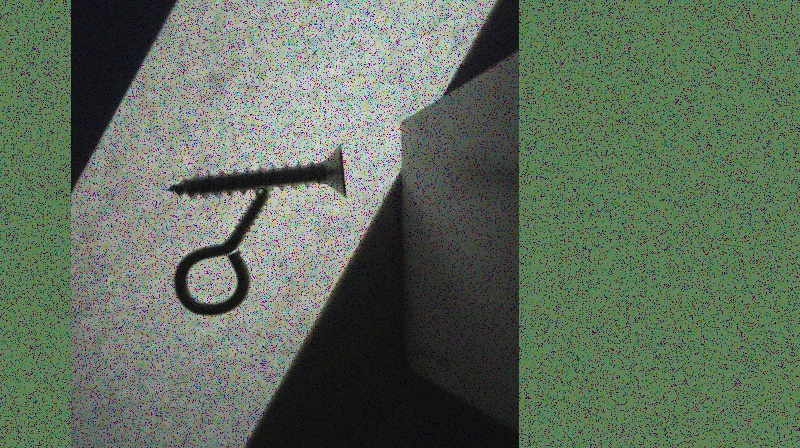O001: (173, 184, 276, 316)
S001: (165, 138, 346, 197)
